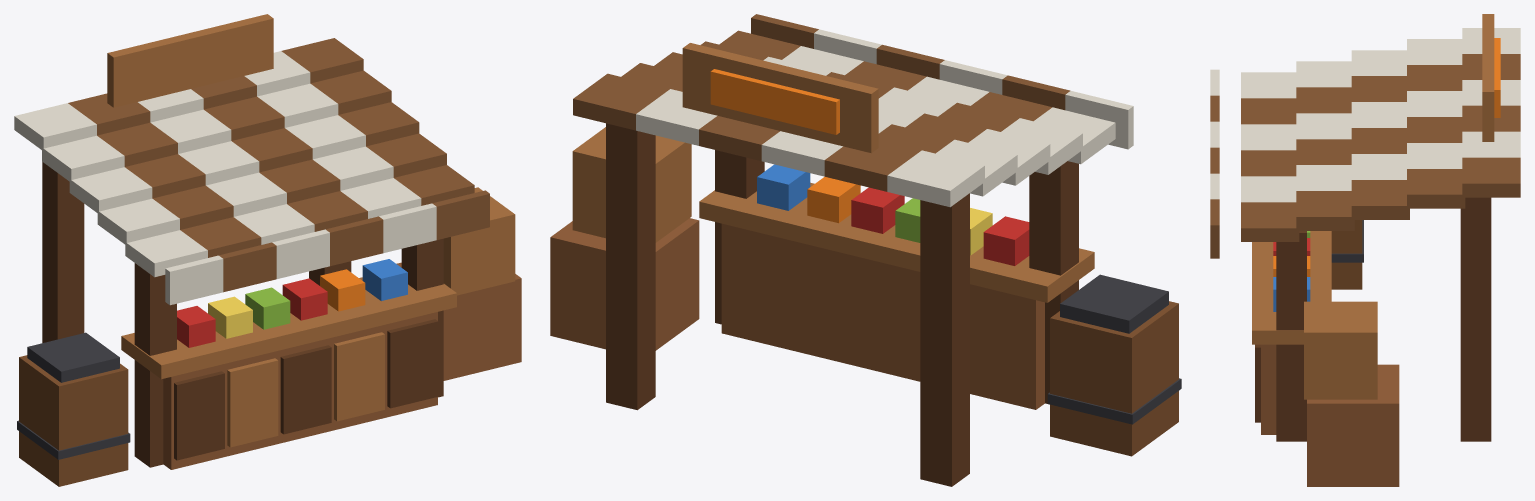
File: MarketStall.obj
The picture shows the model from 3 angles, left to right: view 1: azimuth 30°, elevation 25°; view 2: azimuth 150°, elevation 25°; view 3: azimuth 270°, elevation 25°; orthographic projection. The views are drawn at different scales.
Parts seen in each view (by area): view 1: MarketStall; view 2: MarketStall; view 3: MarketStall.
Boxes of the visible parts, left/top/right/bottom form: MarketStall: left=14, top=14, right=521, bottom=486; MarketStall: left=550, top=14, right=1181, bottom=486; MarketStall: left=1210, top=14, right=1520, bottom=486.
Bounding box in the file's own units: 17.85 × 11.4 × 10.1.
